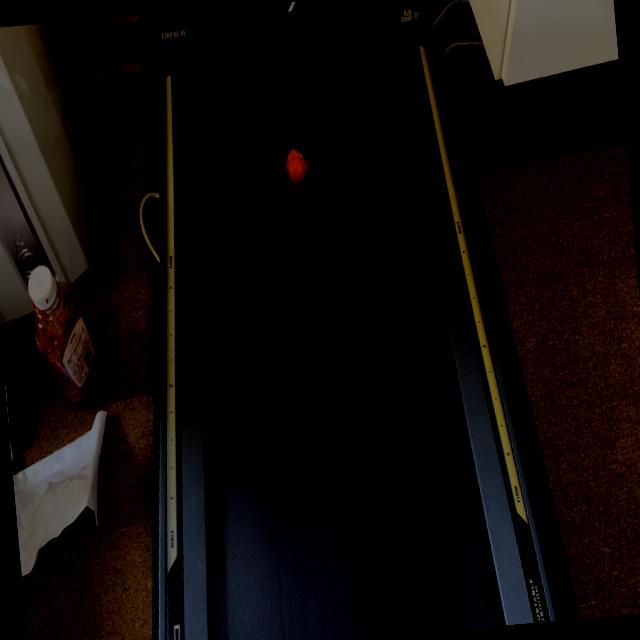Trash: (282, 142, 311, 190)
